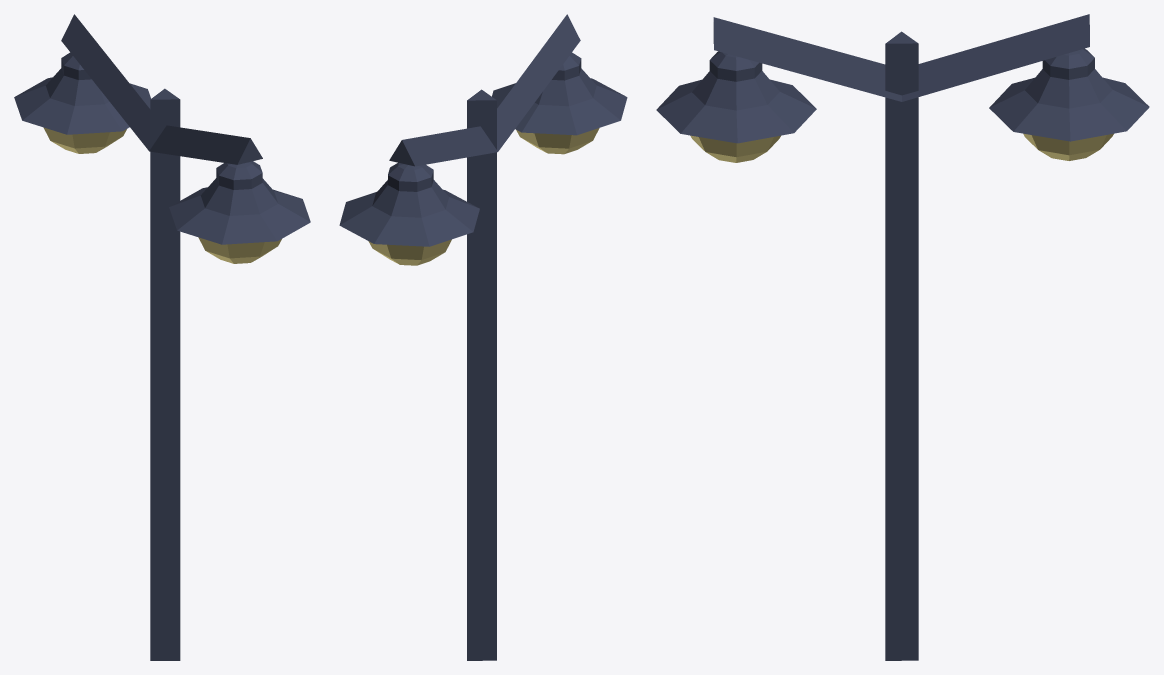
Rendered from park_light.fbx.
The picture shows the model from 3 angles, left to right: view 1: azimuth 30°, elevation 25°; view 2: azimuth 150°, elevation 25°; view 3: azimuth 270°, elevation 25°; orthographic projection. The views are drawn at different scales.
Parts seen in each view (by area): view 1: park_light.001; view 2: park_light.001; view 3: park_light.001.
Part boxes in pixels (<box>): park_light.001: <box>14,14,310,660</box>; park_light.001: <box>339,14,627,660</box>; park_light.001: <box>656,14,1149,660</box>.
Bounding box in the file's own units: 41.29 × 176 × 123.
